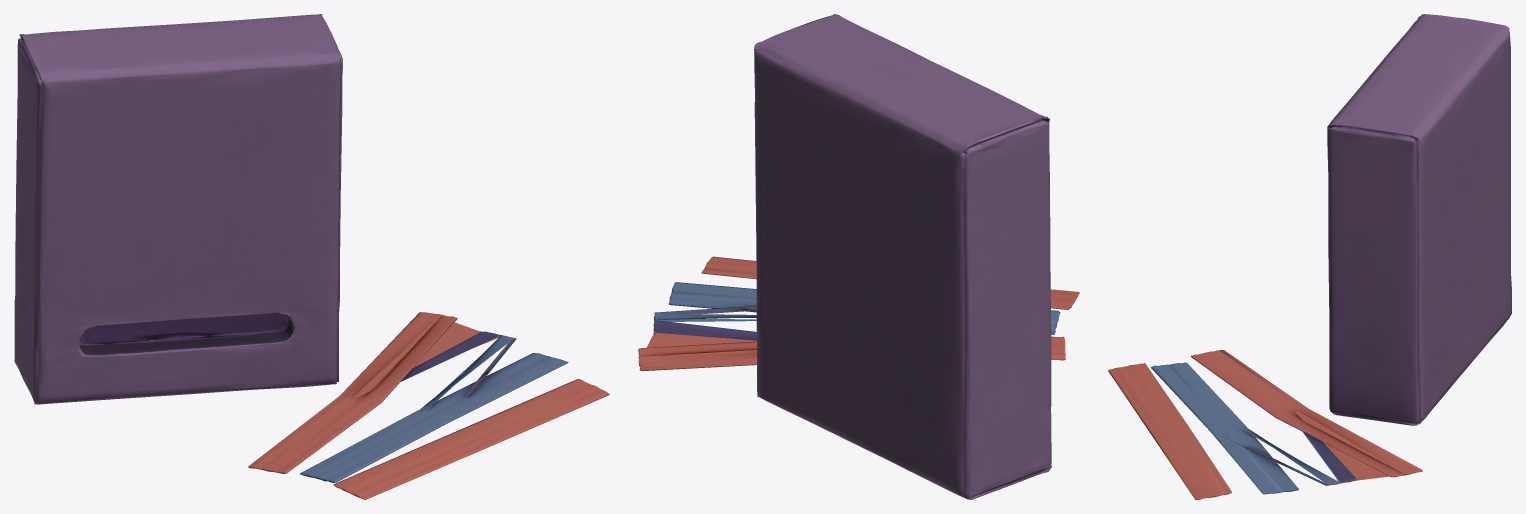
The picture shows the model from 3 angles, left to right: view 1: azimuth 30°, elevation 25°; view 2: azimuth 150°, elevation 25°; view 3: azimuth 270°, elevation 25°; orthographic projection. The views are drawn at different scales.
Visible parts, largest first — view 1: tripo_node_2ec52075-333b-4b5c-9462-5687b90d3ac2; view 2: tripo_node_2ec52075-333b-4b5c-9462-5687b90d3ac2; view 3: tripo_node_2ec52075-333b-4b5c-9462-5687b90d3ac2.
Part boxes in pixels (bbox=[...]): tripo_node_2ec52075-333b-4b5c-9462-5687b90d3ac2: bbox=[14, 14, 609, 499]; tripo_node_2ec52075-333b-4b5c-9462-5687b90d3ac2: bbox=[638, 14, 1079, 499]; tripo_node_2ec52075-333b-4b5c-9462-5687b90d3ac2: bbox=[1108, 14, 1511, 499].
Bounding box in the file's own units: 0.998 × 0.7168 × 0.8848.
Materials: 1 (1 with a texture image).
